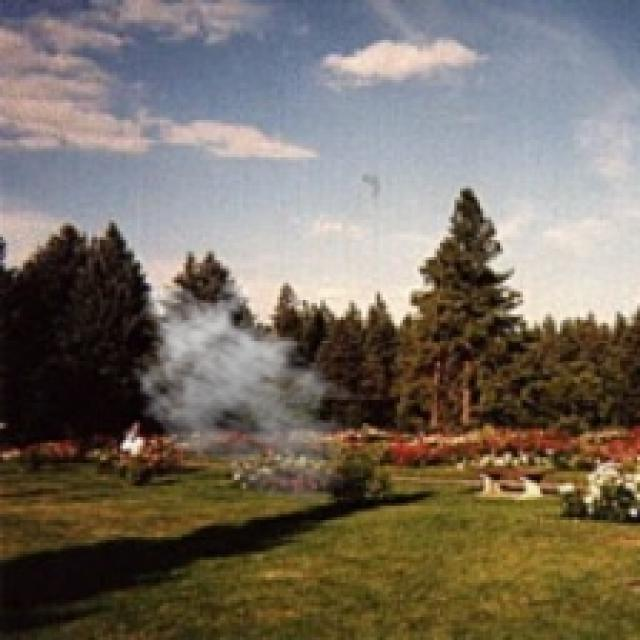Smoke: (128, 280, 368, 506)
